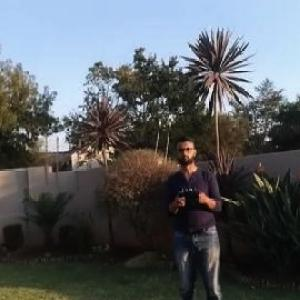follow: (161, 130, 228, 299)
